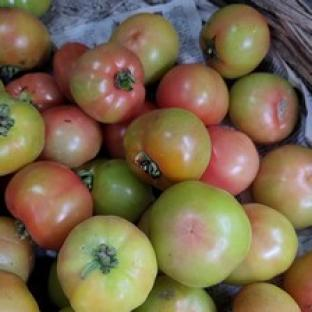Tomato: (150, 182, 252, 288), (58, 216, 157, 311), (5, 161, 93, 250), (124, 108, 211, 189), (70, 42, 146, 122), (226, 202, 298, 285), (200, 3, 270, 79), (251, 144, 311, 229), (229, 73, 299, 144), (111, 13, 179, 84), (156, 63, 229, 125), (201, 124, 260, 194), (39, 105, 103, 168), (90, 159, 154, 222), (0, 92, 44, 175), (0, 9, 51, 73), (134, 275, 217, 311), (6, 72, 66, 111), (0, 216, 34, 282), (52, 42, 89, 101), (232, 282, 301, 311), (282, 251, 311, 311), (0, 271, 40, 311), (102, 116, 136, 158), (48, 258, 69, 309), (59, 307, 74, 311)
